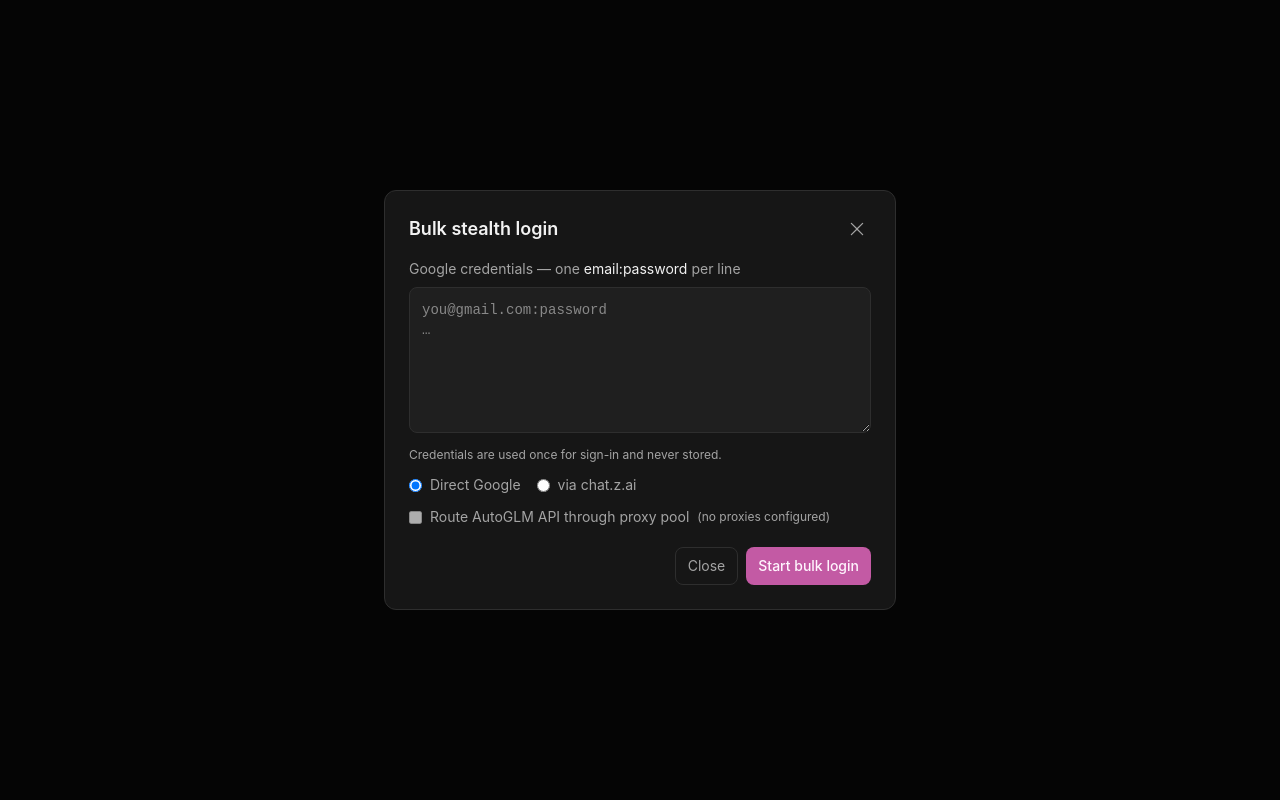
Test case: shows a server-rejected account as failed without polling it
Type "bad@x.com:pw" into the text box labelled "Google credentials — one email:password per line" at (640, 360), box x1=409 y1=287 x2=871 y2=433
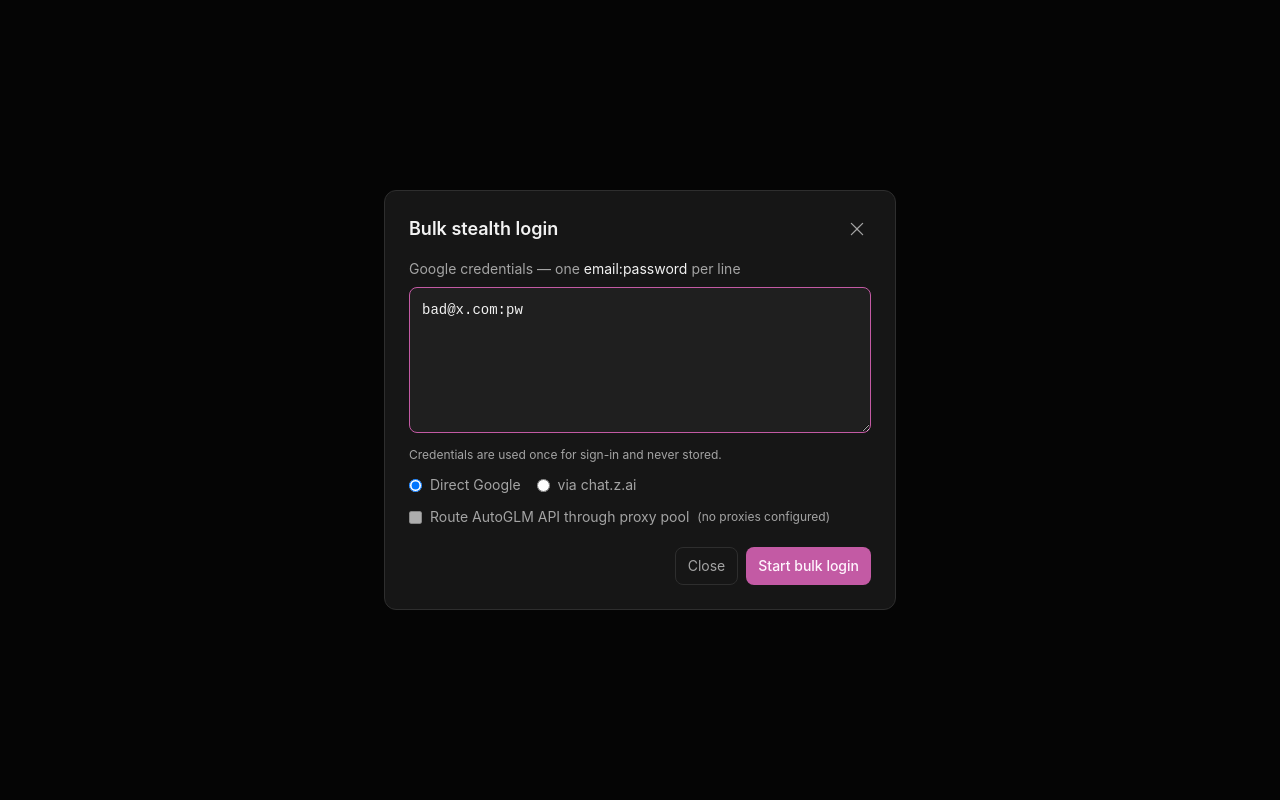
Click the button "Start bulk login" at (809, 566), box x1=746 y1=547 x2=871 y2=585
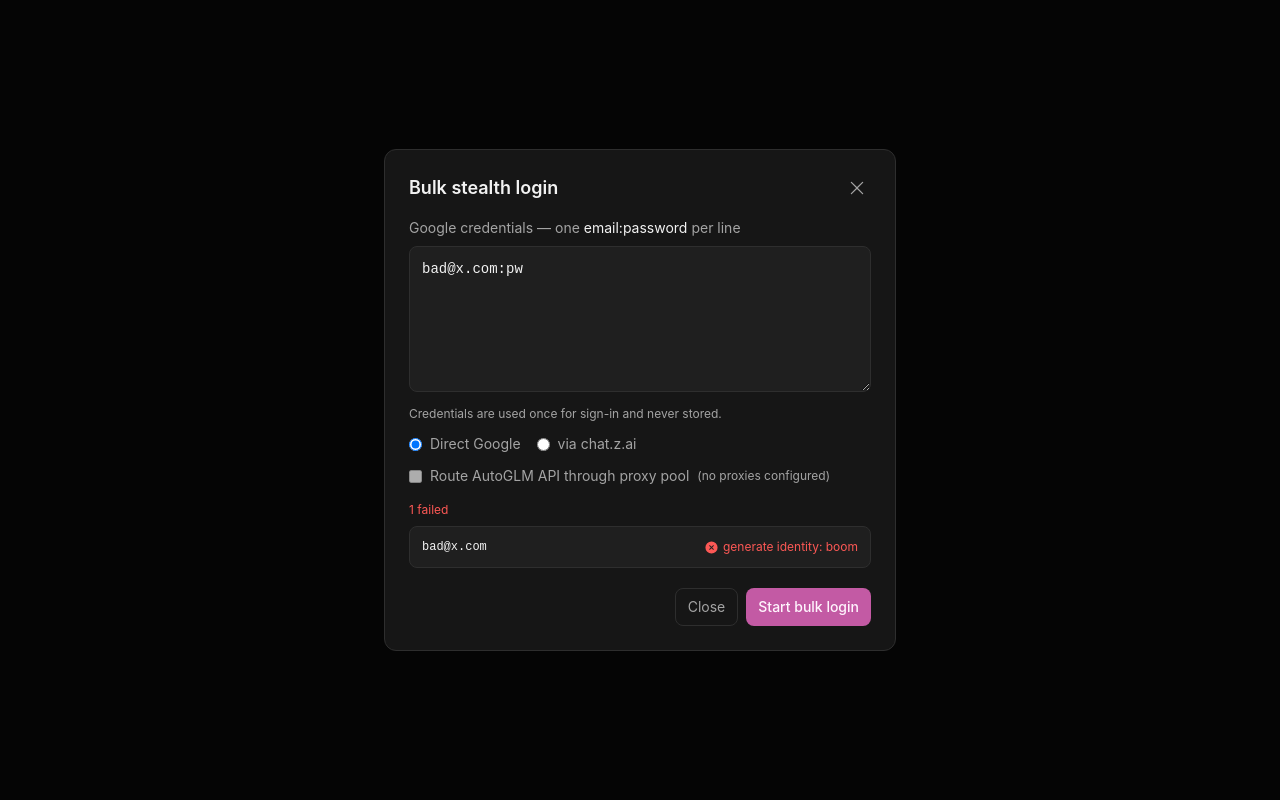
Check: the text "bad@x.com" is shown, box x1=422 y1=540 x2=487 y2=554
Check: the text "1 failed" is shown, box x1=409 y1=502 x2=448 y2=518
